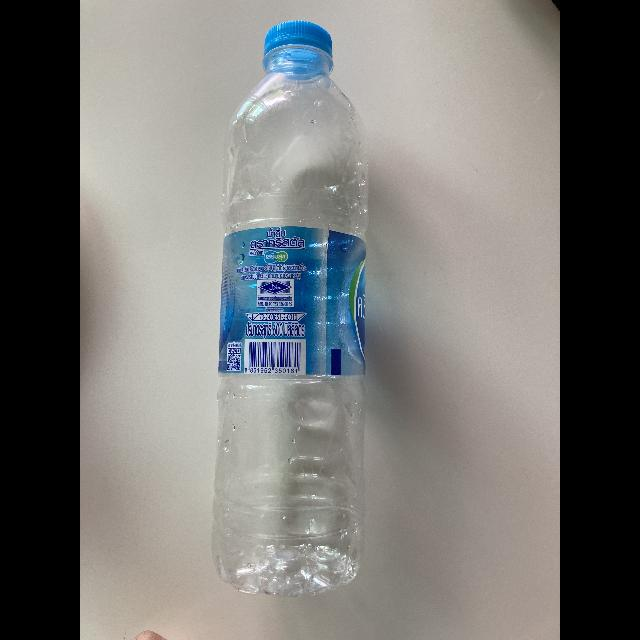plastic_bottle: (206, 16, 374, 604)
plastic_bottle_cap: (264, 18, 334, 80)
